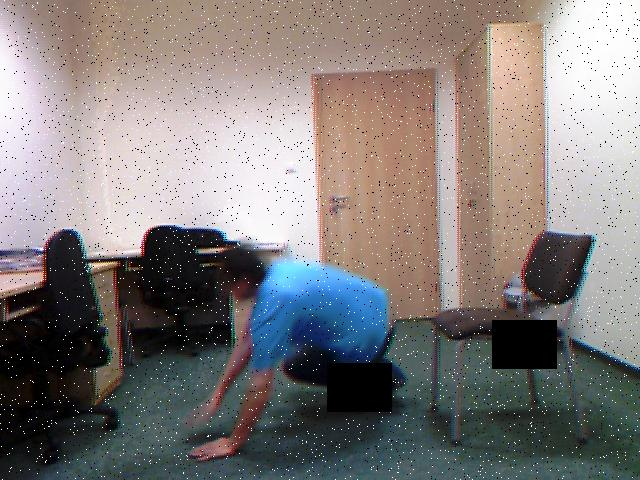fall: (186, 235, 415, 470)
